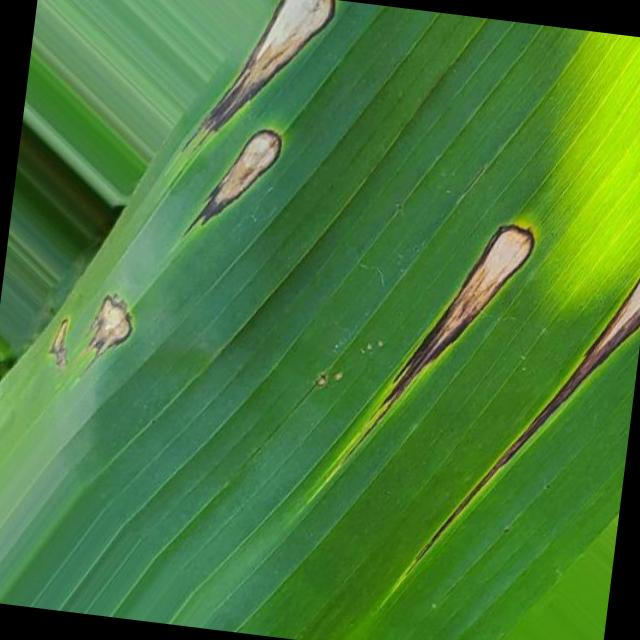Banana_Black_Sigatoka: (161, 0, 341, 290), (432, 211, 640, 448), (43, 270, 164, 382)
